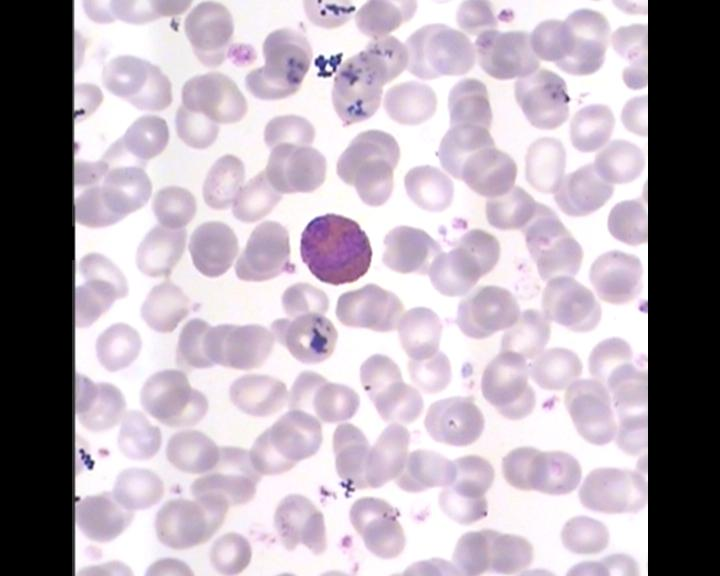eosi: (296, 208, 374, 286)
